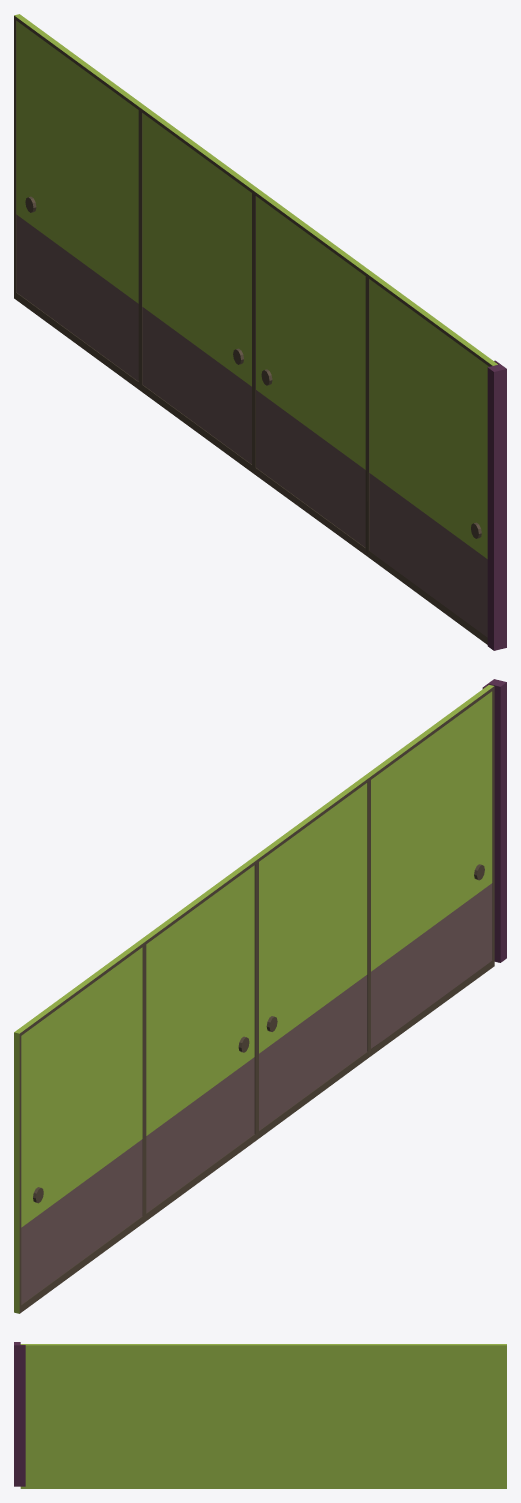
Rendered from right_wall_test.glb.
3 views of the same model, one above another, from view 1: azimuth 30°, elevation 25°; view 2: azimuth 150°, elevation 25°; view 3: azimuth 270°, elevation 25° (orthographic). The views are drawn at different scales.
Parts seen in each view (by area): view 1: RightWall; view 2: RightWall; view 3: RightWall.
Boxes of the visible parts, bbox=[...] form: RightWall: bbox=[14, 14, 506, 650]; RightWall: bbox=[14, 679, 506, 1313]; RightWall: bbox=[14, 1342, 506, 1488].
Size of the model in its own units: 0.1674 by 3.51 by 10.89.
